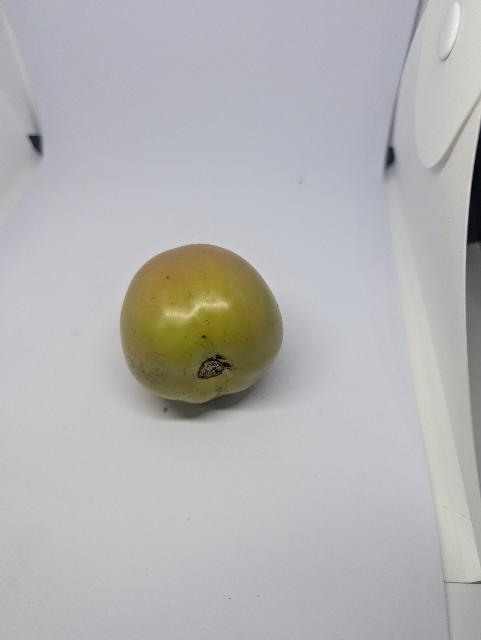breaker: (119, 241, 288, 407)
